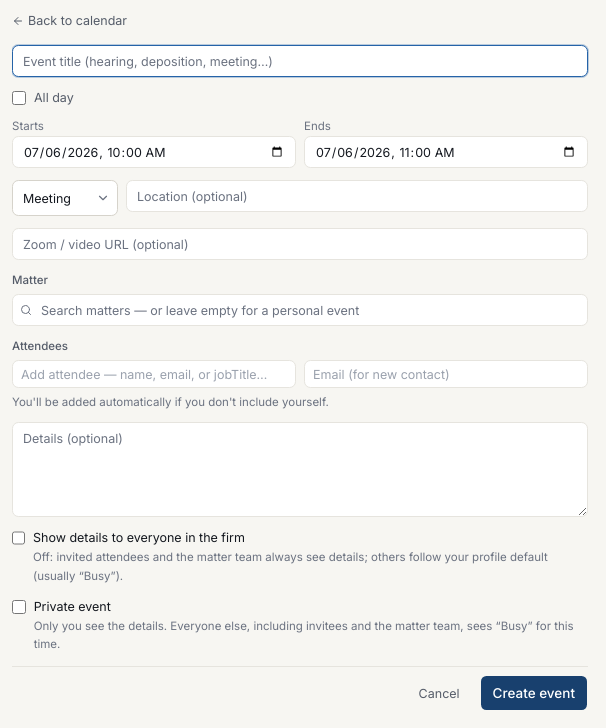
it: after success › keeps Create disabled while the redirect is in flight and navigates to the event
This screenshot has width=606, height=728.
Type "Hearing" into the field with placeholder "Event title (hearing, deposition, meeting…)" at (300, 61), box [12, 45, 588, 77]
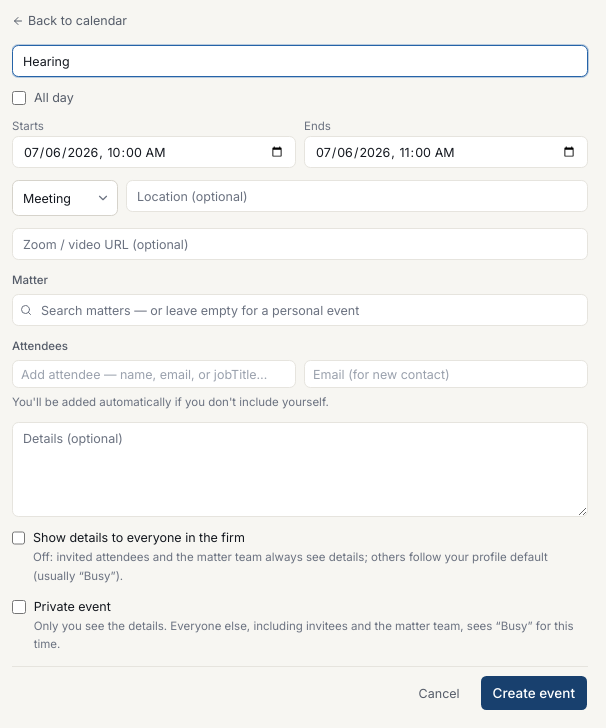
Submit the form named "create event"
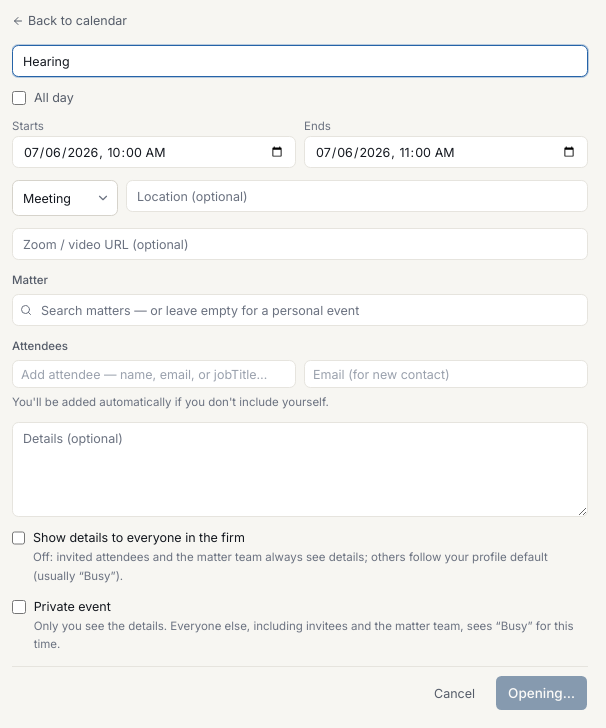
Result: the button "Opening…" is disabled at [495, 675, 588, 711]
